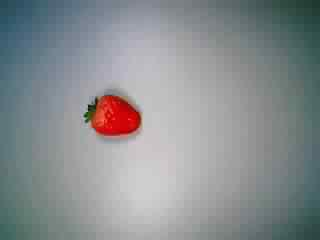strawberry: (80, 80, 148, 144)
